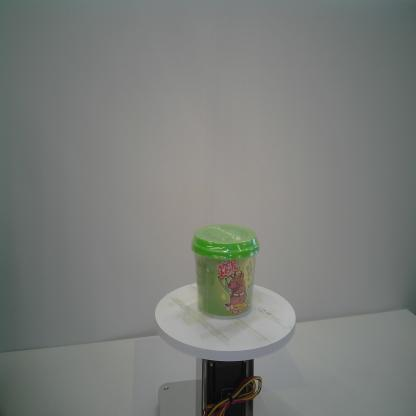Instant Drink: (188, 221, 261, 322)
